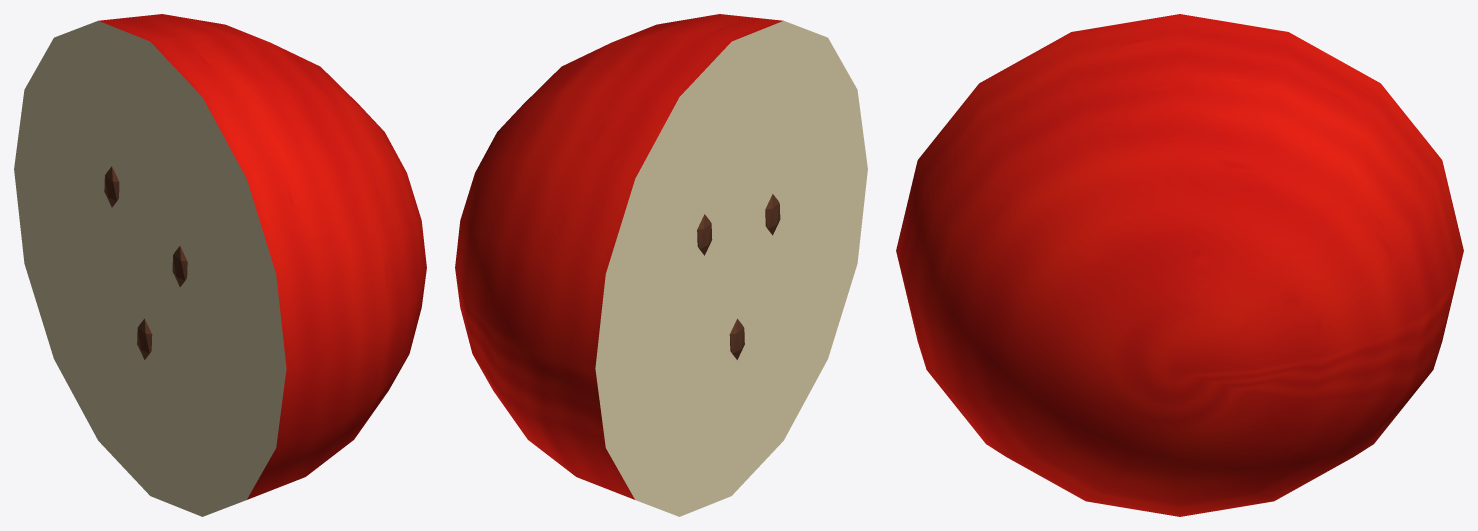
File: apple_half.glb
The picture shows the model from 3 angles, left to right: view 1: azimuth 30°, elevation 25°; view 2: azimuth 150°, elevation 25°; view 3: azimuth 270°, elevation 25°; orthographic projection. The views are drawn at different scales.
Visible parts, largest first — view 1: AppleHalf_Body, AppleHalf; view 2: AppleHalf_Body, AppleHalf; view 3: AppleHalf_Body.
Part boxes in pixels (box(x1,y1,x2,y2)): AppleHalf_Body: box(14, 14, 426, 516); AppleHalf: box(104, 166, 187, 359); AppleHalf_Body: box(455, 14, 867, 516); AppleHalf: box(697, 194, 780, 359); AppleHalf_Body: box(896, 14, 1463, 516).
Bounding box in the file's own units: 0.53 × 0.92 × 1.
3 materials, 1 textured.
